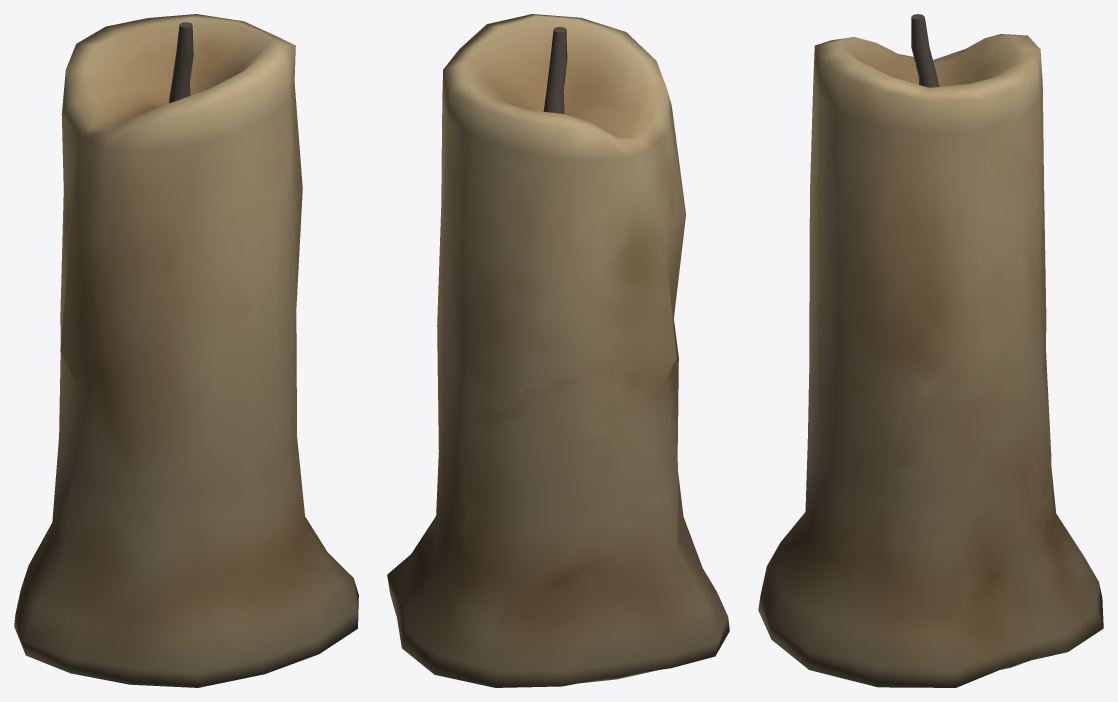
Rendered from SM_candleD_a1.fbx.
3 views of the same model, side by side, from view 1: azimuth 30°, elevation 25°; view 2: azimuth 150°, elevation 25°; view 3: azimuth 270°, elevation 25° (orthographic).
Visible parts, largest first — view 1: SM_candleD_a1_LOD0; view 2: SM_candleD_a1_LOD0; view 3: SM_candleD_a1_LOD0.
Boxes of the visible parts, left/top/right/bottom form: SM_candleD_a1_LOD0: left=14, top=14, right=358, bottom=687; SM_candleD_a1_LOD0: left=387, top=14, right=729, bottom=687; SM_candleD_a1_LOD0: left=758, top=14, right=1103, bottom=687.
Bounding box in the file's own units: 7.61 × 7.12 × 13.57.
Materials: 1 (1 with a texture image).
